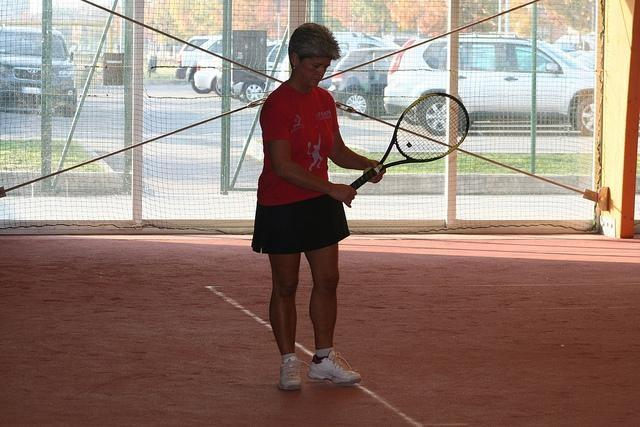car: (381, 34, 594, 138), (264, 38, 397, 94), (0, 28, 75, 115), (328, 46, 402, 121), (182, 34, 224, 96), (174, 36, 214, 78), (233, 82, 268, 104)
truck: (382, 36, 596, 136)
